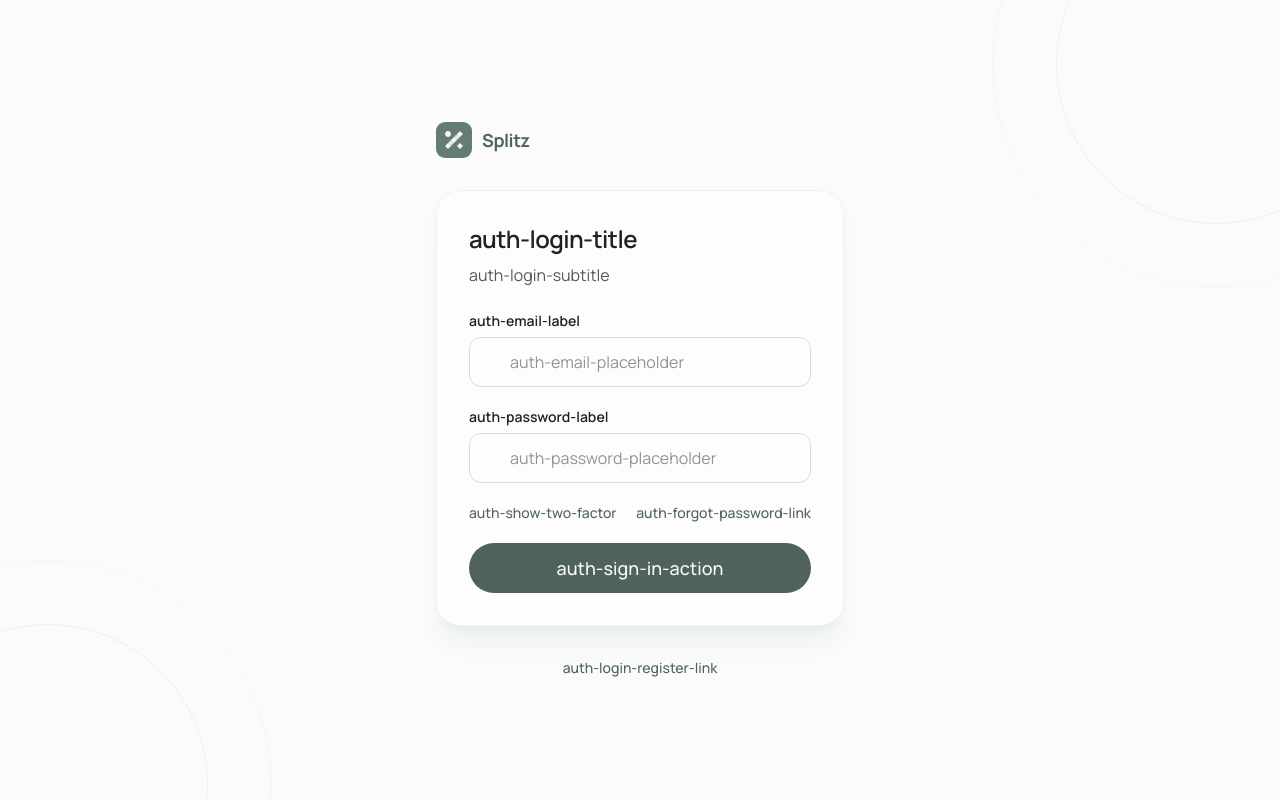
LoginPage › preserves the 2FA code toggle
This screenshot has width=1280, height=800.
Click the button with test id "toggle-two-factor" at (543, 513), box 469,503 -> 617,523
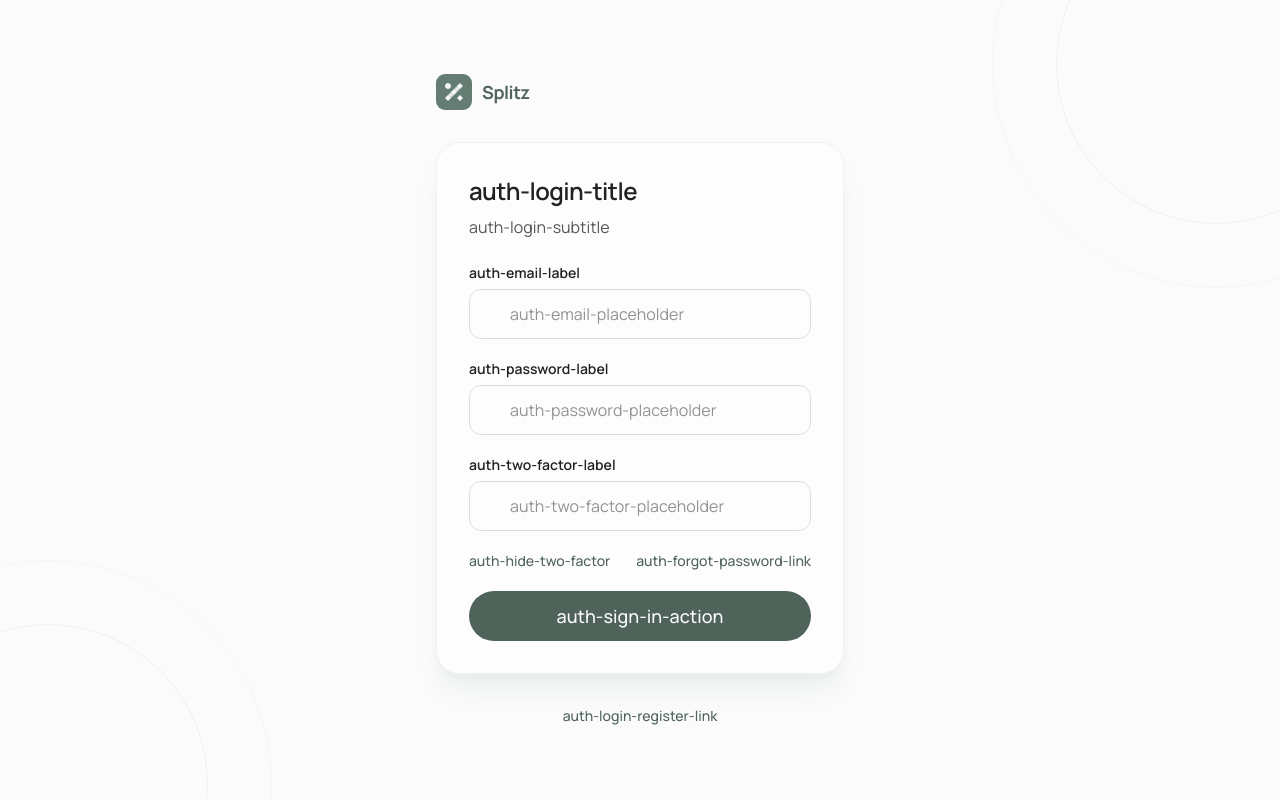
Check: the field named "2fa-code" is shown, box 510,494 -> 798,518
